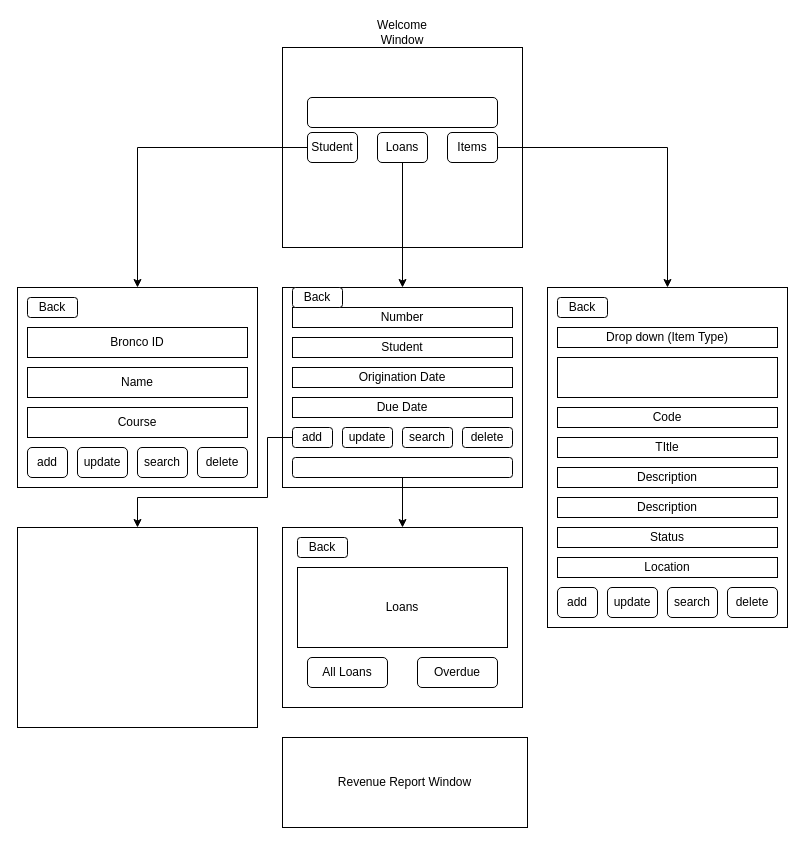
Some shapes in this 805 by 845 pixel diagram are drawn without their labels. The centre of each missing label's shape, as x and y in pixels:
Generate Revenue Report: (402,112)
Item Specific Information: (667,377)
Receipt Window: (137,627)
View Current Loans: (402,467)
